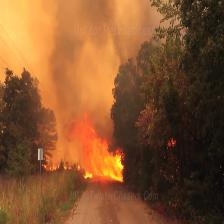fire: (26, 79, 170, 223)
smoke: (0, 0, 171, 111)
